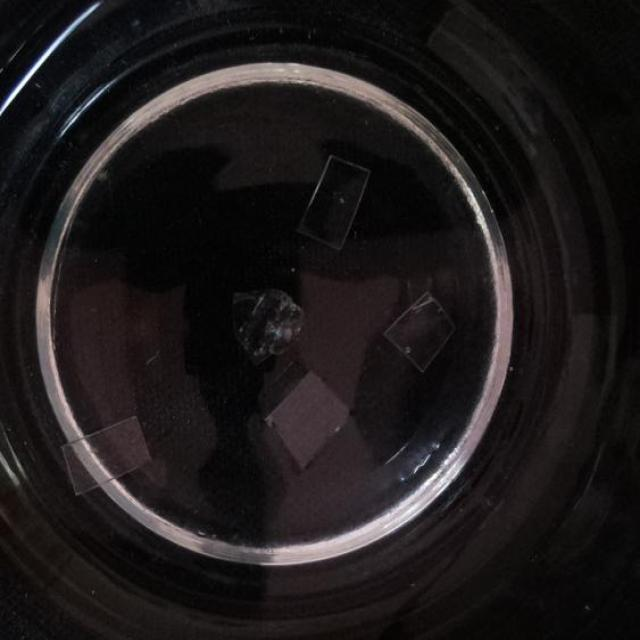fiber: (259, 366, 356, 474), (58, 411, 160, 501), (294, 152, 373, 264), (384, 283, 458, 382), (226, 284, 312, 364)
